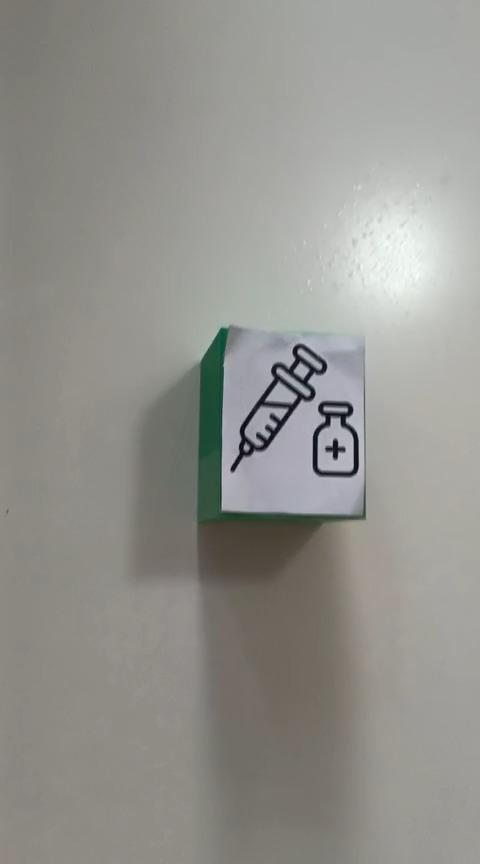antiseptic cream: (197, 324, 366, 523)
